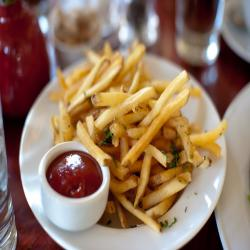fries: (74, 61, 196, 221)
ketchup: (41, 148, 105, 205)
